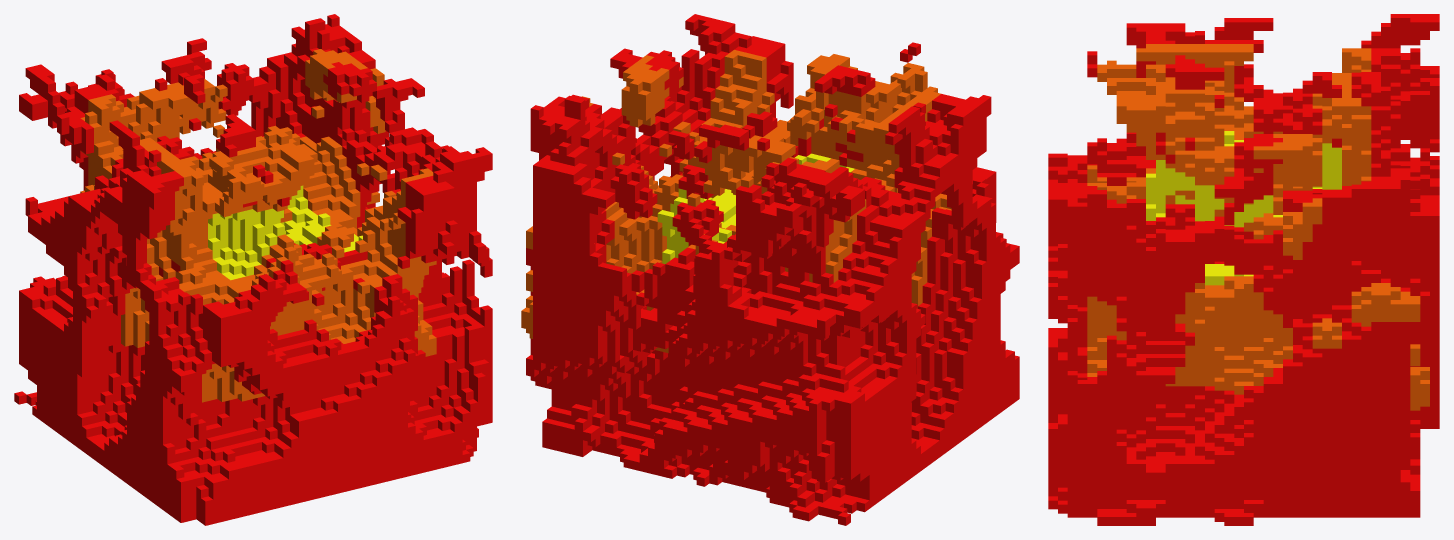
The model's file is Fire7.obj.
3 renders of one model, left to right at view 1: azimuth 30°, elevation 25°; view 2: azimuth 150°, elevation 25°; view 3: azimuth 270°, elevation 25°, orthographic. The views are drawn at different scales.
Size of the model in its own units: 4 by 4 by 4.
Materials: 1 (1 with a texture image).
